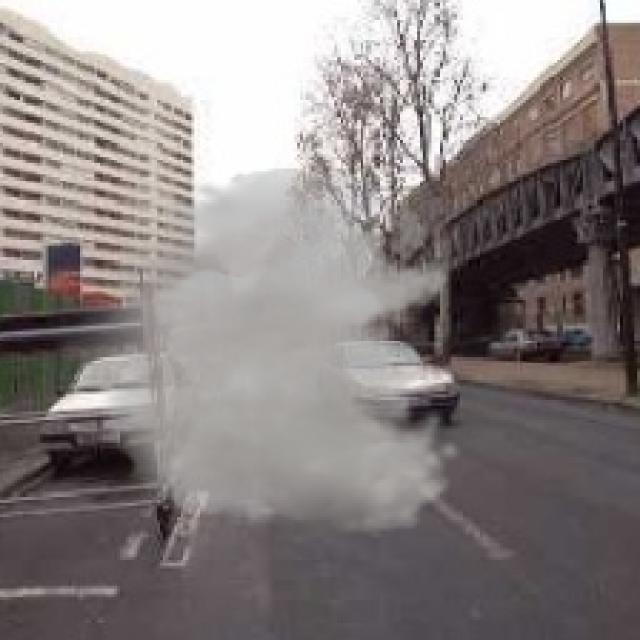smoke: (46, 169, 463, 534)
